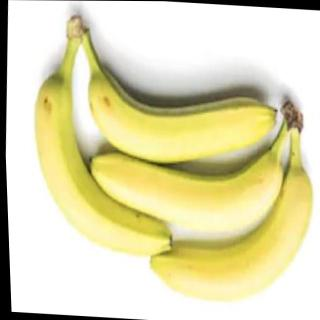banana: (24, 71, 181, 259), (140, 158, 319, 308), (82, 64, 280, 172), (84, 138, 286, 239)
